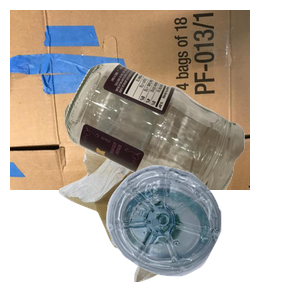cardboard: (10, 10, 250, 190)
glass: (62, 60, 300, 240)
plastic: (104, 163, 300, 300)
trash: (56, 120, 247, 300)
